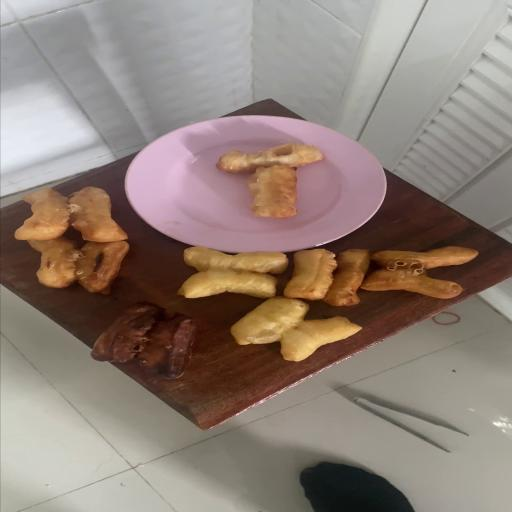street_burnt_defect: (91, 303, 195, 379), (30, 239, 128, 291)
